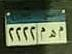2: (15, 26, 22, 41), (8, 26, 15, 41), (23, 26, 29, 41), (30, 26, 36, 40)
haa: (49, 28, 57, 38)
meem: (38, 27, 47, 40), (58, 26, 64, 37)
